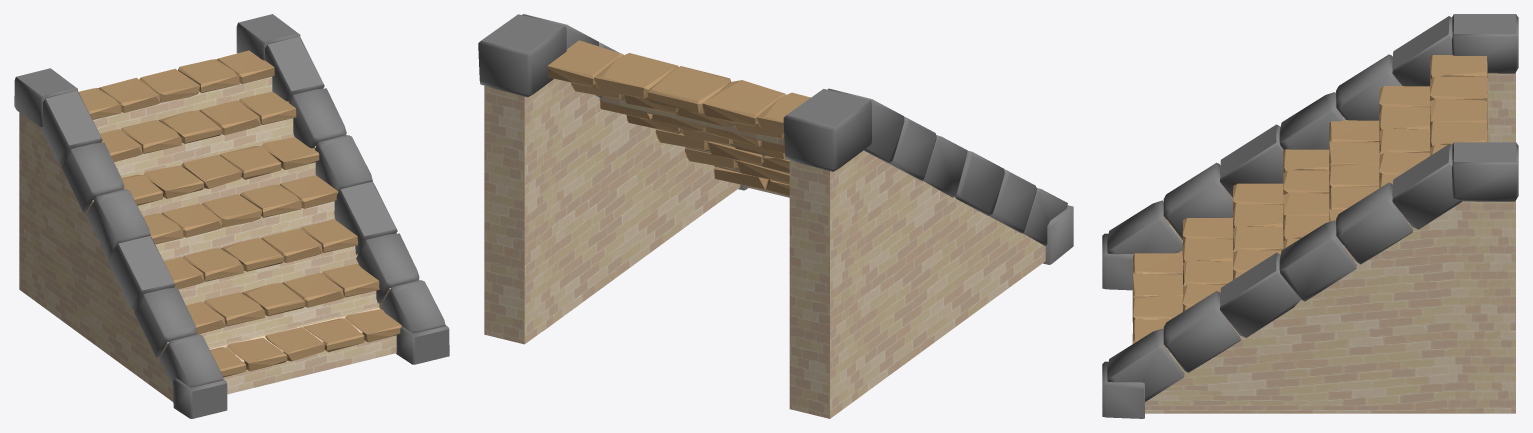
File: SM_staircase_small_01.fbx
The picture shows the model from 3 angles, left to right: view 1: azimuth 30°, elevation 25°; view 2: azimuth 150°, elevation 25°; view 3: azimuth 270°, elevation 25°; orthographic projection. The views are drawn at different scales.
Parts seen in each view (by area): view 1: Box523; view 2: Box523; view 3: Box523.
Boxes of the visible parts, bbox=[...] form: Box523: bbox=[14, 14, 449, 418]; Box523: bbox=[478, 14, 1073, 418]; Box523: bbox=[1102, 14, 1518, 418].
Size of the model in its own units: 121 by 95.64 by 141.
